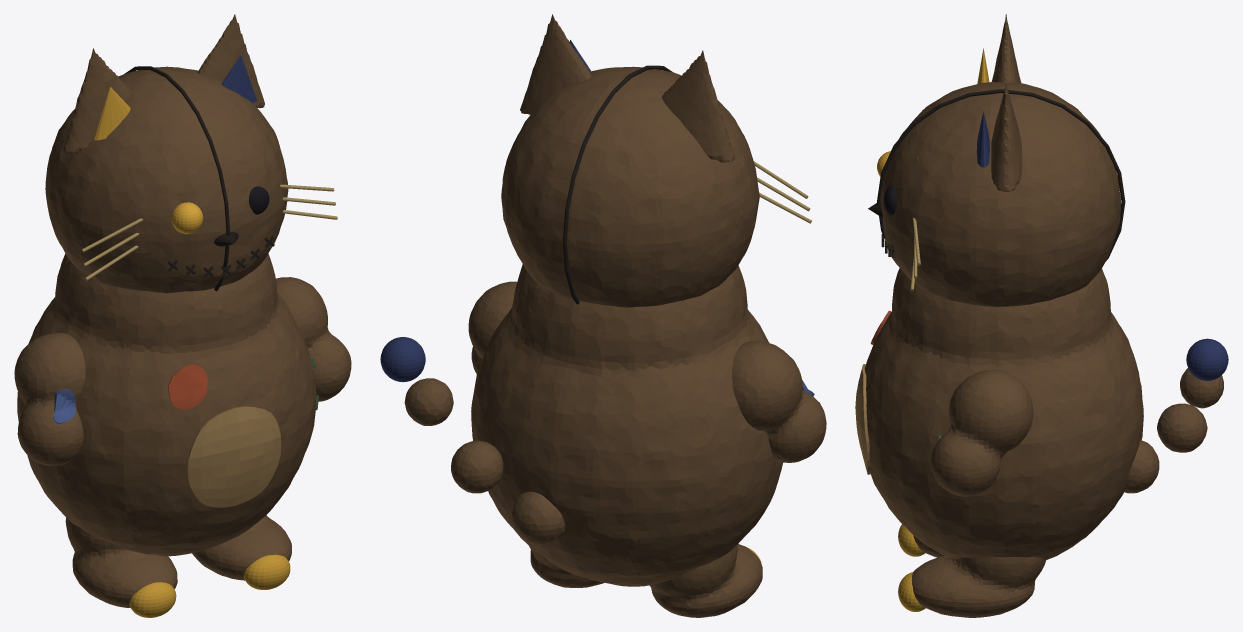
File: chum_1974.glb
The picture shows the model from 3 angles, left to right: view 1: azimuth 30°, elevation 25°; view 2: azimuth 150°, elevation 25°; view 3: azimuth 270°, elevation 25°; orthographic projection. The views are drawn at different scales.
Visible parts, largest first — view 1: Body, Head, BellyCircle, ArmL, LegL, ArmR, LegR, EarL, EarR, RustChest, LegLToeCap, LegRToeCap (+6 smaller); view 2: Body, Head, ArmL, Tail, LegL, EarL, EarR, ArmR, TailTip, HeadSeam, LegR; view 3: Body, Head, ArmR, LegR, Tail, EarR, HeadSeam, TailTip, EarL, BellyCircle, LegRToeCap, EarInnerR.
Part boxes in pixels (<box>): Body: <box>17,253,316,556</box>; Head: <box>45,66,288,293</box>; BellyCircle: <box>187,406,281,507</box>; ArmL: <box>14,333,85,465</box>; LegL: <box>65,517,177,607</box>; ArmR: <box>276,277,351,401</box>; LegR: <box>192,515,291,580</box>; EarL: <box>63,48,131,153</box>; EarR: <box>197,14,264,108</box>; RustChest: <box>168,364,207,409</box>; LegLToeCap: <box>129,582,176,617</box>; LegRToeCap: <box>243,554,290,589</box>; Body: <box>471,264,782,586</box>; Head: <box>501,66,759,307</box>; ArmL: <box>732,340,826,462</box>; Tail: <box>404,378,565,545</box>; LegL: <box>649,544,762,617</box>; EarL: <box>662,50,735,162</box>; EarR: <box>520,14,591,114</box>; ArmR: <box>468,281,517,374</box>; TailTip: <box>380,337,425,382</box>; HeadSeam: <box>562,65,672,304</box>; LegR: <box>529,546,604,587</box>; Body: <box>864,268,1143,559</box>; Head: <box>880,82,1120,306</box>; ArmR: <box>930,370,1033,496</box>; LegR: <box>912,555,1046,617</box>; Tail: <box>1124,368,1223,493</box>; EarR: <box>991,83,1022,191</box>; HeadSeam: <box>877,89,1125,260</box>; TailTip: <box>1186,338,1228,380</box>; EarL: <box>991,14,1021,82</box>; BellyCircle: <box>855,364,870,474</box>; LegRToeCap: <box>898,572,925,611</box>; EarInnerR: <box>976,111,989,167</box>.
Bounding box in the file's own units: 0.7406 × 1.17 × 0.7417.
